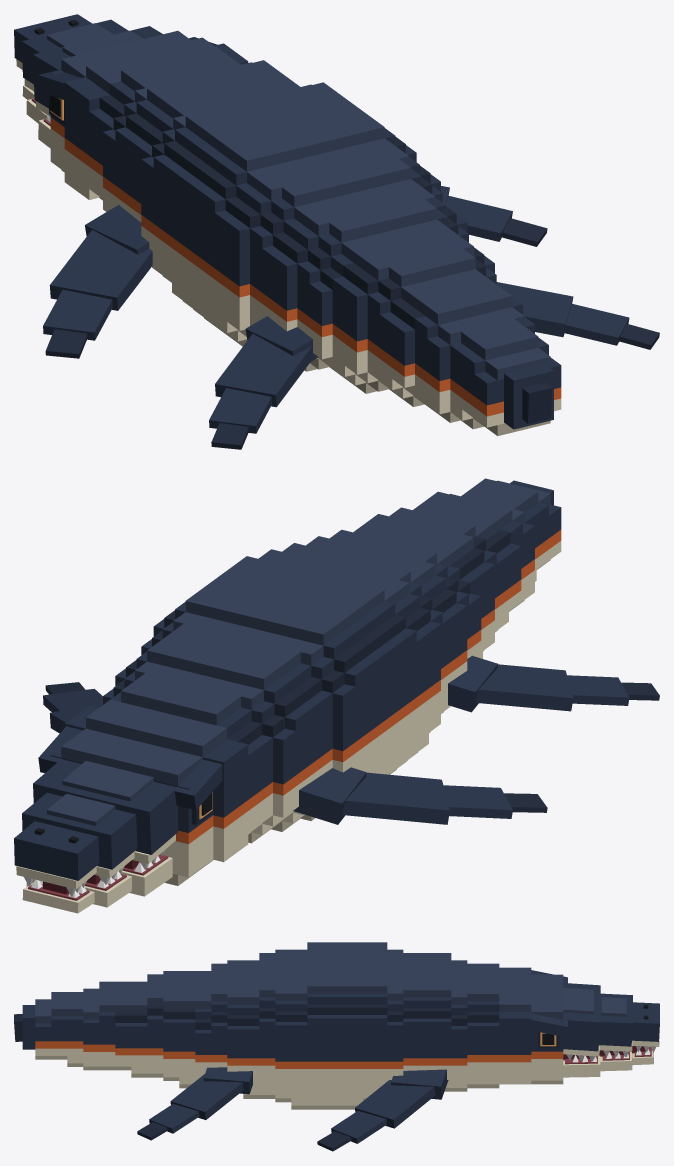
File: Liopleurodon.obj
3 renders of one model, top to bottom at view 1: azimuth 30°, elevation 25°; view 2: azimuth 150°, elevation 25°; view 3: azimuth 270°, elevation 25°, orthographic. The views are drawn at different scales.
Visible parts, largest first — view 1: Body, Head, T3, Hip, T1, FlipperFL, T2, FlipperBL, Neck, FlipperBR, FlipperFR, Jaw; view 2: Body, Head, FlipperFL, FlipperBL, Neck, Hip, T1, T2, T3, Jaw, FlipperFR; view 3: Body, Head, T3, T1, Hip, T2, FlipperFR, Neck, FlipperBR, Jaw.
Boxes of the visible parts, bbox=[...] form: Body: bbox=[103, 60, 442, 371]; Head: bbox=[14, 14, 248, 200]; T3: bbox=[427, 307, 561, 435]; Hip: bbox=[274, 188, 468, 384]; T1: bbox=[332, 228, 496, 397]; FlipperFL: bbox=[43, 205, 152, 358]; T2: bbox=[380, 269, 522, 413]; FlipperBL: bbox=[209, 316, 318, 449]; Neck: bbox=[89, 47, 240, 199]; FlipperBR: bbox=[496, 282, 659, 349]; FlipperFR: bbox=[441, 186, 547, 246]; Jaw: bbox=[22, 85, 50, 148]; Body: bbox=[103, 543, 454, 843]; Head: bbox=[14, 699, 248, 896]; FlipperFL: bbox=[293, 767, 547, 824]; FlipperBL: bbox=[448, 655, 659, 712]; Neck: bbox=[111, 673, 272, 834]; Hip: bbox=[307, 529, 481, 678]; T1: bbox=[354, 507, 496, 658]; T2: bbox=[413, 491, 522, 632]; T3: bbox=[449, 478, 561, 609]; Jaw: bbox=[22, 854, 172, 913]; FlipperFR: bbox=[43, 682, 102, 733]; Body: bbox=[243, 942, 467, 1109]; Head: bbox=[499, 967, 659, 1084]; T3: bbox=[14, 988, 99, 1070]; T1: bbox=[147, 971, 195, 1088]; Hip: bbox=[195, 960, 243, 1080]; T2: bbox=[99, 981, 147, 1077]; FlipperFR: bbox=[317, 1069, 448, 1151]; Neck: bbox=[467, 963, 499, 1088]; FlipperBR: bbox=[137, 1067, 252, 1140]; Jaw: bbox=[563, 1046, 653, 1077].
Bounding box in the file's own units: 21.28 × 7.65 × 36.33.
1 material, 1 textured.
